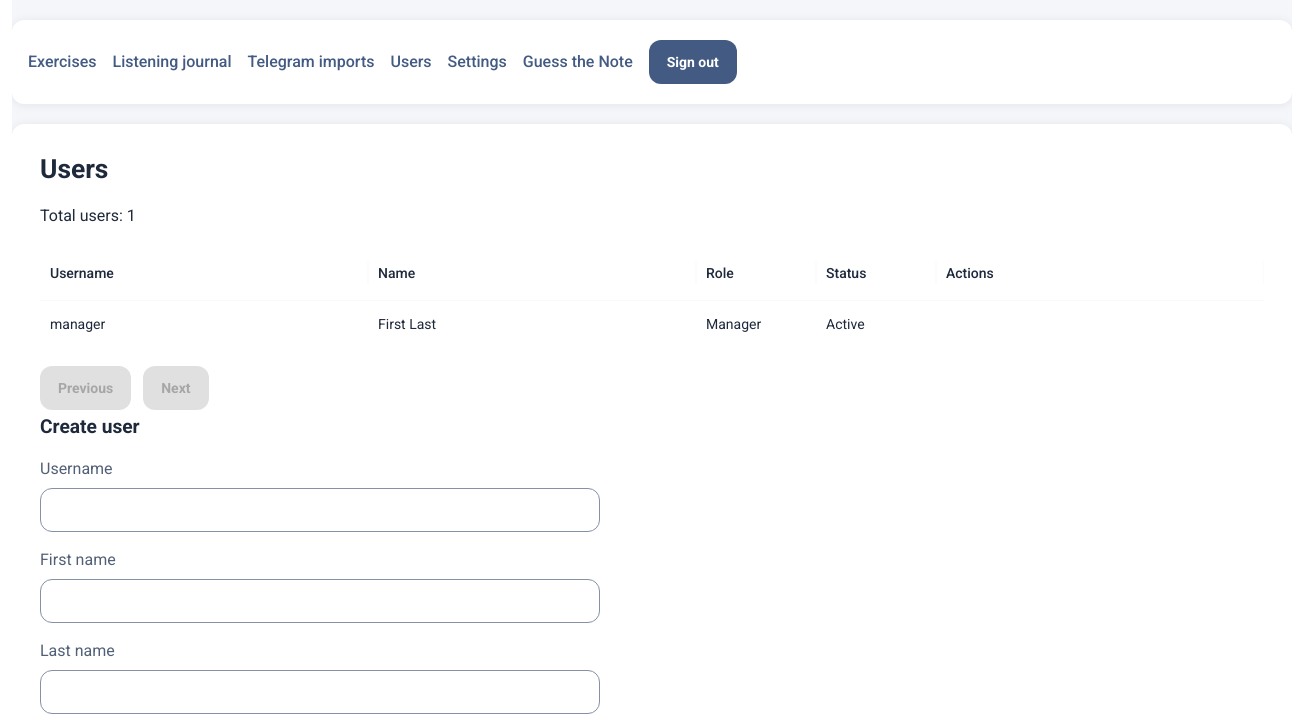
Test: creates users with a CSRF token and refreshes the list
This screenshot has width=1292, height=718.
In the field labelled "Username": (320, 510) x1=40 y1=490 x2=600 y2=530, type "student"
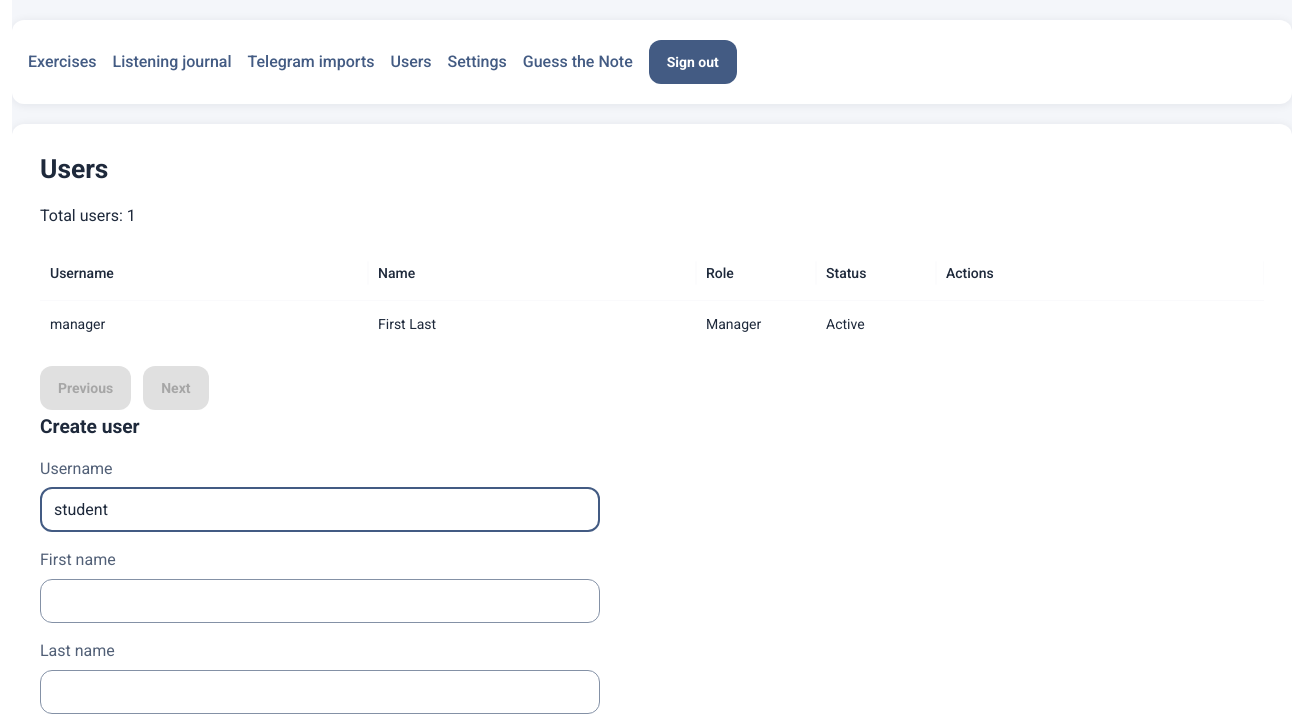
In the field labelled "First name": (320, 601) x1=40 y1=581 x2=600 y2=621, type "First"
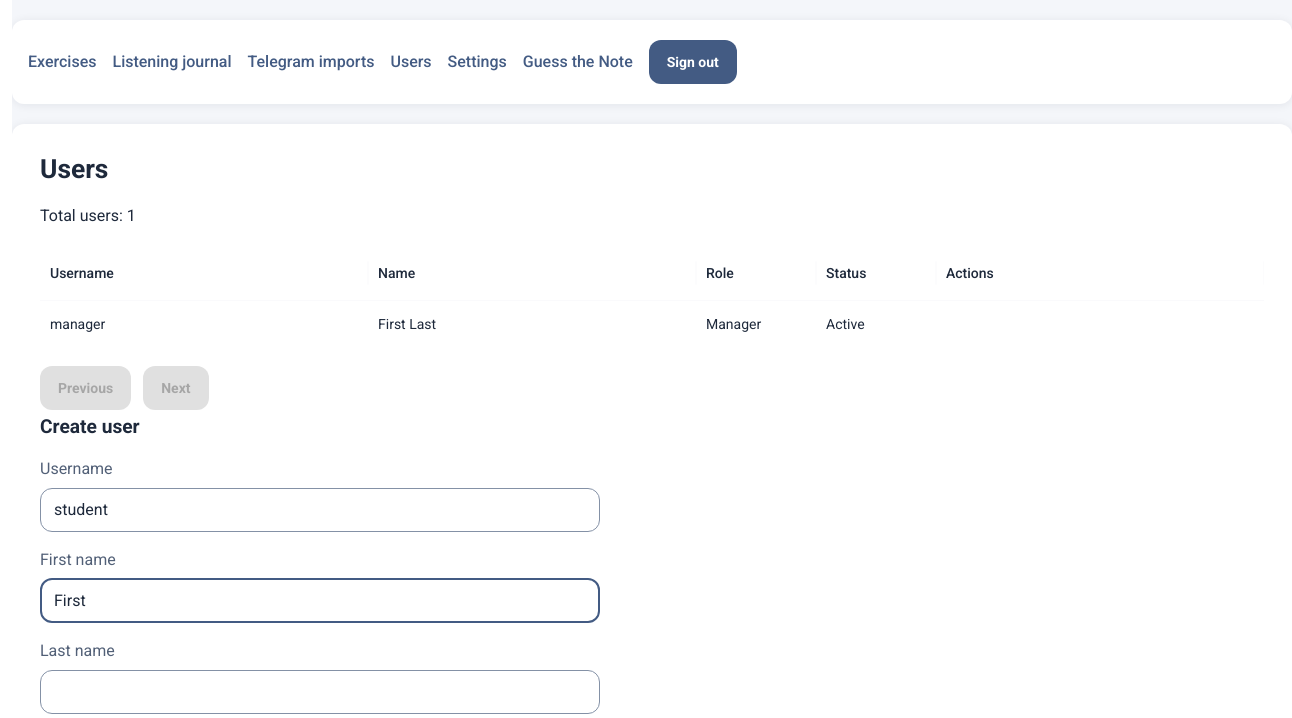
In the field labelled "Last name": (320, 692) x1=40 y1=672 x2=600 y2=712, type "Last"
(page scrolled)
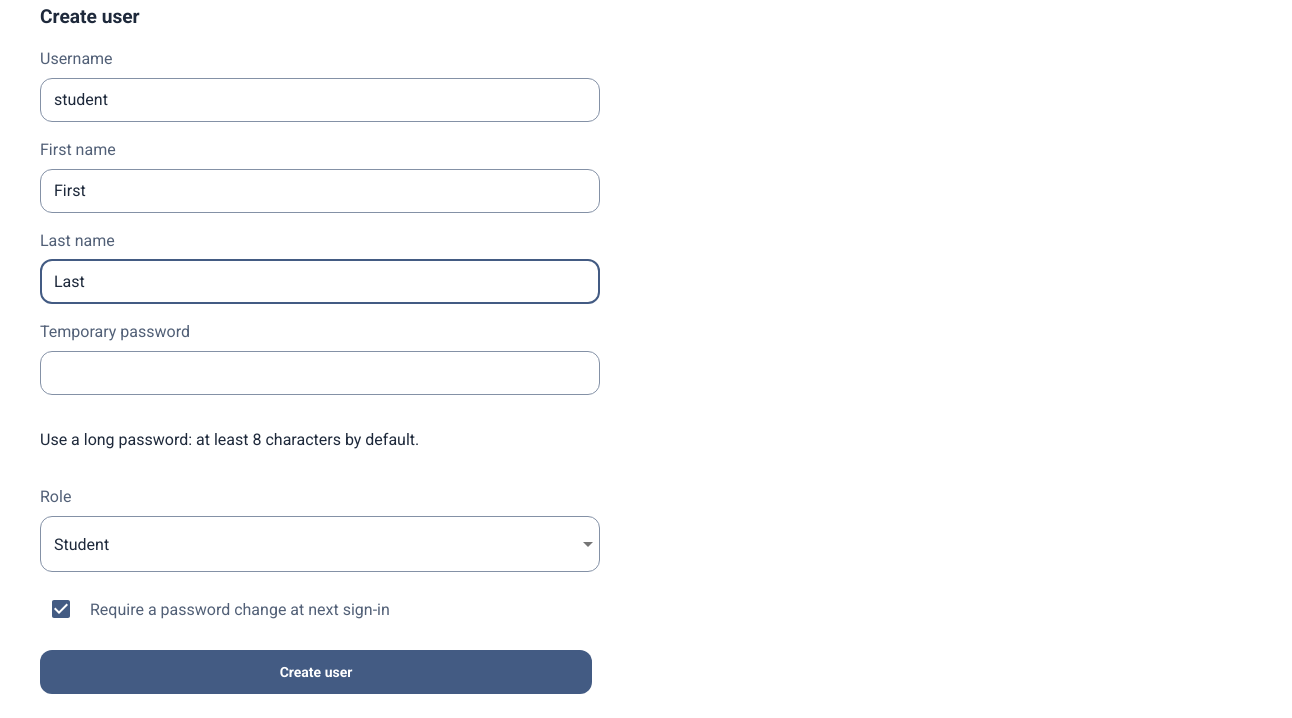
In the password field labelled "Temporary password": (320, 373) x1=40 y1=353 x2=600 y2=393, type "private-password"
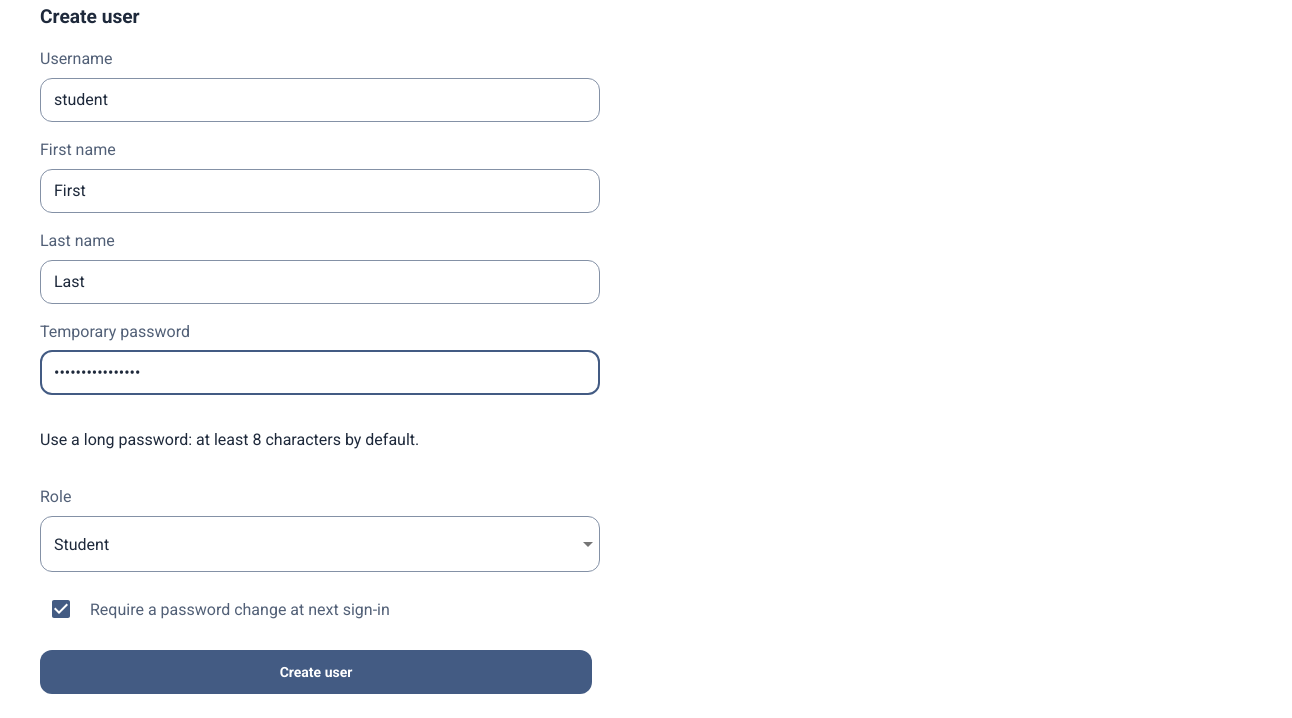
Click the button "Create user": (316, 672) x1=40 y1=650 x2=592 y2=694
(page scrolled)
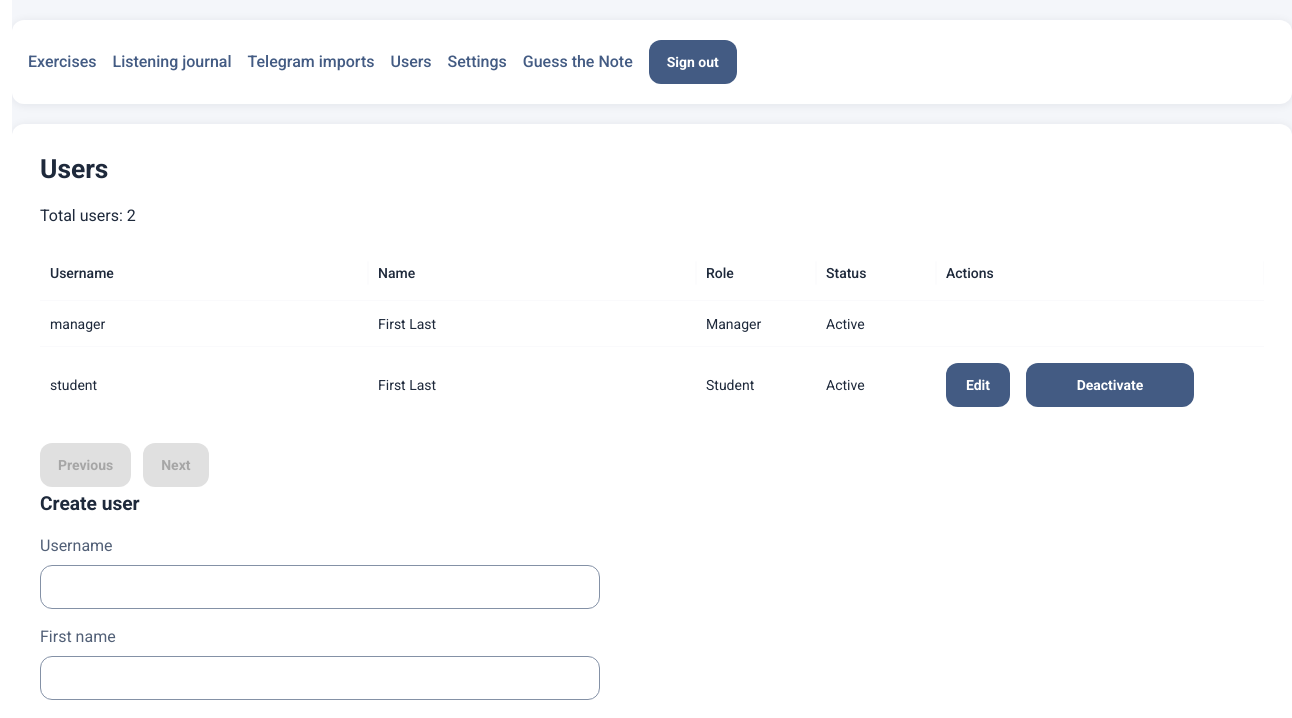
Check: the text "student" is shown, box x1=50 y1=375 x2=97 y2=395
